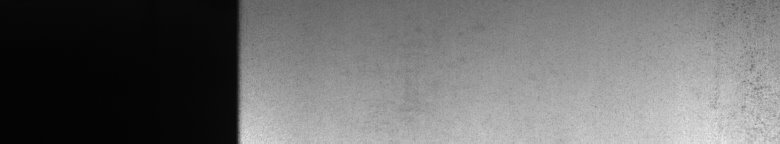ib: (693, 4, 768, 133)
